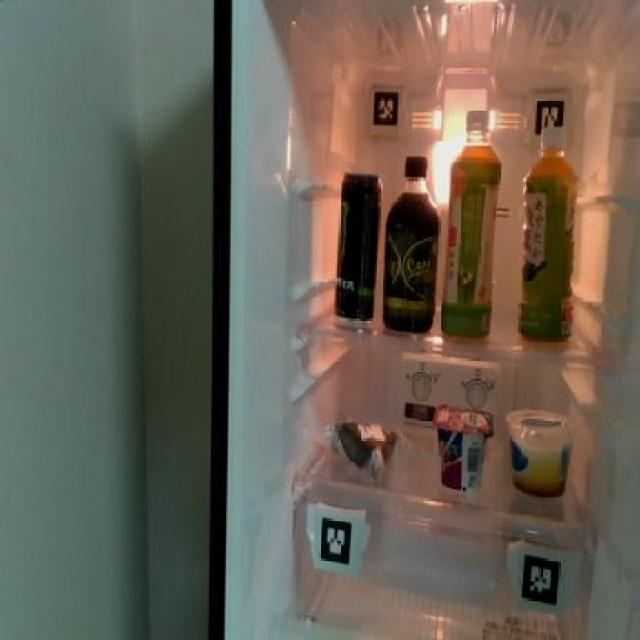coffee: (382, 152, 438, 332)
energy_drink: (332, 165, 378, 322)
pudding: (502, 405, 573, 498)
rice_ball: (326, 413, 399, 484)
tea_a: (514, 137, 578, 343)
tea_i: (441, 106, 502, 339)
yogurt: (433, 402, 489, 491)
